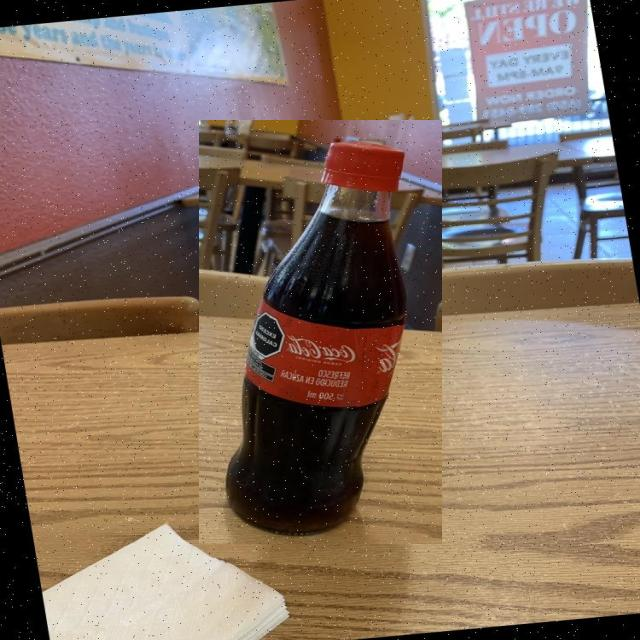coca-cola: (199, 120, 442, 544)
